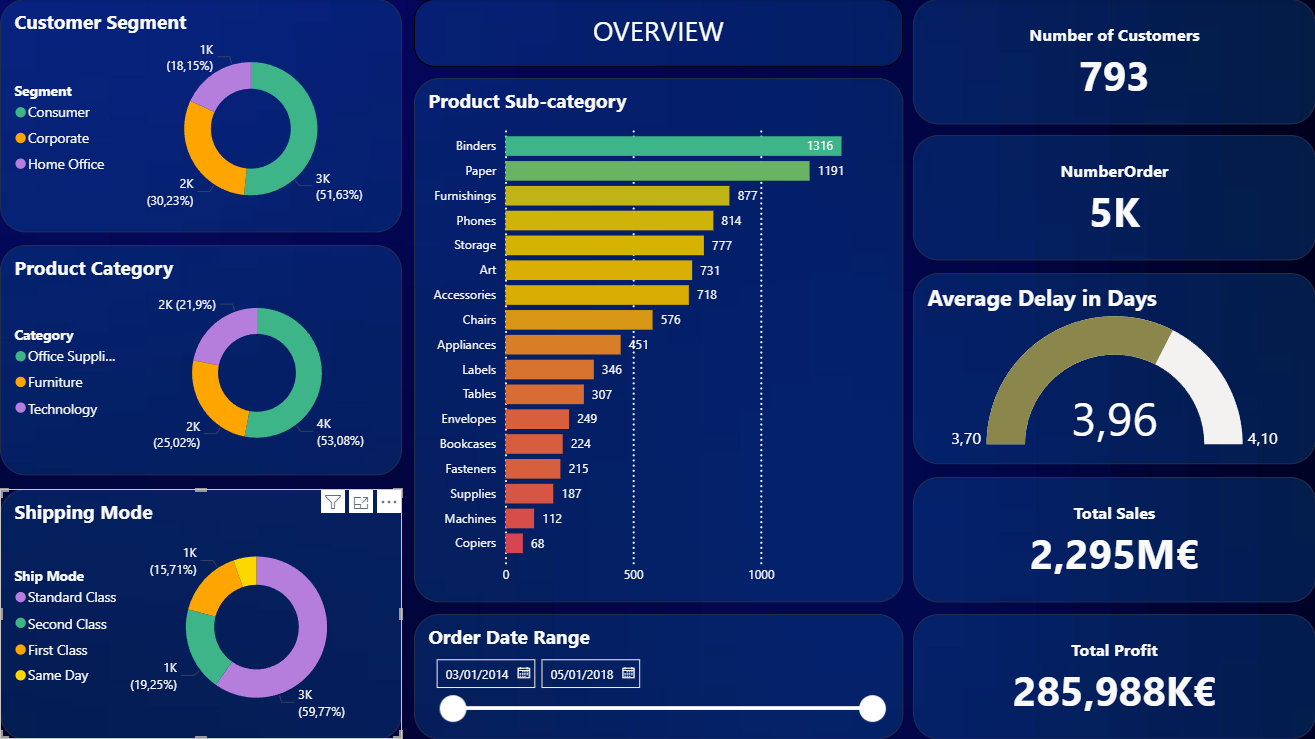

The page's visual inventory and layout, read from the dashboard file:
{"tool":"powerbi","page":{"name":"Overview","canvas":[1280,720],"ordinal":0},"visuals":[{"type":"textbox","title":"Retail Performance Dashboard","box":[402.2,0,475.6,65.6],"z":0},{"type":"donutChart","title":"Customer Segment","fields":{"Category":["Segment.Segment"],"Y":["Mesure.NumberOrder"]},"box":[0,0,390.9,227.3],"z":1000},{"type":"donutChart","title":"Shipping Mode","fields":{"Category":["Ship.Ship Mode"],"Y":["Mesure.NumberOrder"]},"box":[0,476.4,390.9,243.6],"z":2000},{"type":"donutChart","title":"Product Category","fields":{"Category":["Product.Category"],"Y":["Mesure.NumberOrder"]},"box":[0,239.1,390.9,223.6],"z":3000},{"type":"barChart","title":"Product Sub-category","fields":{"Category":["Product.Sub-Category"],"Y":["Mesure.NumberOrder"]},"box":[402.2,76.7,475.6,510],"z":4000},{"type":"slicer","title":"Order Date Range","fields":{"Values":["TableDate.Date"]},"box":[402.2,597.8,475.6,122.2],"z":5000},{"type":"cardVisual","fields":{"Data":["Mesure.NumberOrder"]},"box":[887.8,132.2,392.2,122.2],"z":6000},{"type":"cardVisual","fields":{"Data":["Mesure.Profit"]},"box":[887.8,597.8,392.2,122.2],"z":7000},{"type":"cardVisual","fields":{"Data":["Mesure.Sales"]},"box":[887.8,464.4,392.2,122.2],"z":8000},{"type":"gauge","fields":{"Y":["Mesure.DelayDays"]},"box":[887.8,266.7,392.2,185.6],"z":9000},{"type":"cardVisual","fields":{"Data":["Count(Sample - Superstore.Customer ID)"]},"box":[887.8,0,392.2,122.2],"z":10000}]}

Visuals, with their boxes in screenshot pixels (x1, y1, x2, y2), scaled from the page's 1280x720 canvas onto the 1315x739 screenshot:
"Retail Performance Dashboard" textbox: [left=413, top=0, right=902, bottom=67]
"Customer Segment" donutChart: [left=0, top=0, right=402, bottom=233]
"Shipping Mode" donutChart: [left=0, top=489, right=402, bottom=738]
"Product Category" donutChart: [left=0, top=245, right=402, bottom=475]
"Product Sub-category" barChart: [left=413, top=79, right=902, bottom=602]
"Order Date Range" slicer: [left=413, top=614, right=902, bottom=738]
cardVisual - Mesure.NumberOrder: [left=912, top=136, right=1314, bottom=261]
cardVisual - Mesure.Profit: [left=912, top=614, right=1314, bottom=738]
cardVisual - Mesure.Sales: [left=912, top=477, right=1314, bottom=602]
gauge - Mesure.DelayDays: [left=912, top=274, right=1314, bottom=464]
cardVisual - Count(Sample - Superstore.Customer ID): [left=912, top=0, right=1314, bottom=125]
